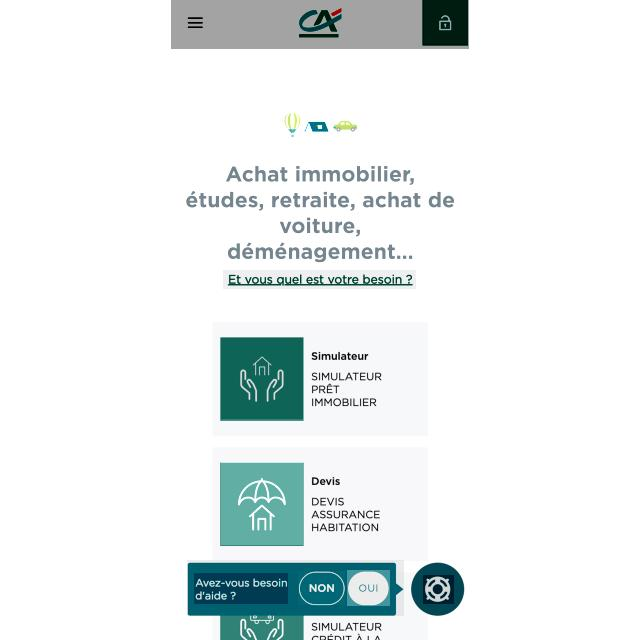CheckBox: (223, 270, 416, 289), (423, 0, 468, 44), (298, 571, 345, 605), (347, 570, 390, 606)
Input field: (194, 573, 288, 604)
bag: (171, 0, 469, 49)
carousel: (423, 575, 454, 604)
content: (221, 462, 303, 545), (221, 337, 303, 419), (280, 110, 302, 139), (332, 117, 360, 133), (305, 120, 330, 134)
date picker: (294, 4, 347, 44)
decoration: (182, 12, 207, 33)
image: (176, 153, 470, 265)
label: (187, 560, 404, 616)
